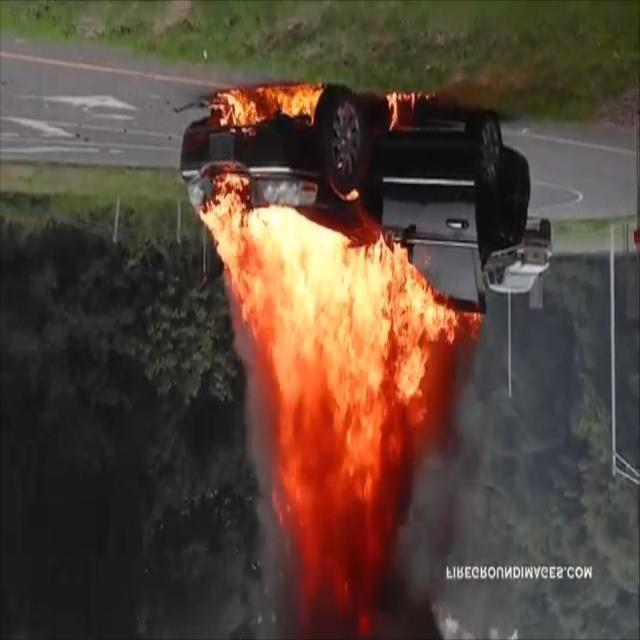fire: (198, 172, 482, 628), (215, 76, 430, 144)
